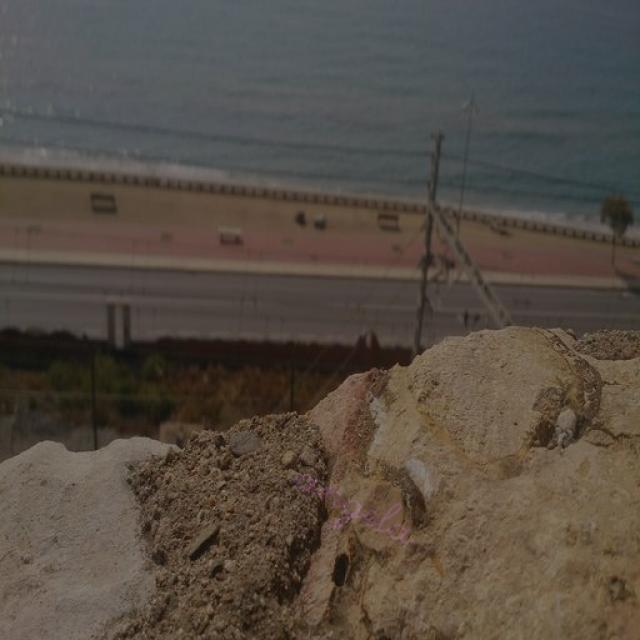watermark: (284, 450, 442, 555)
